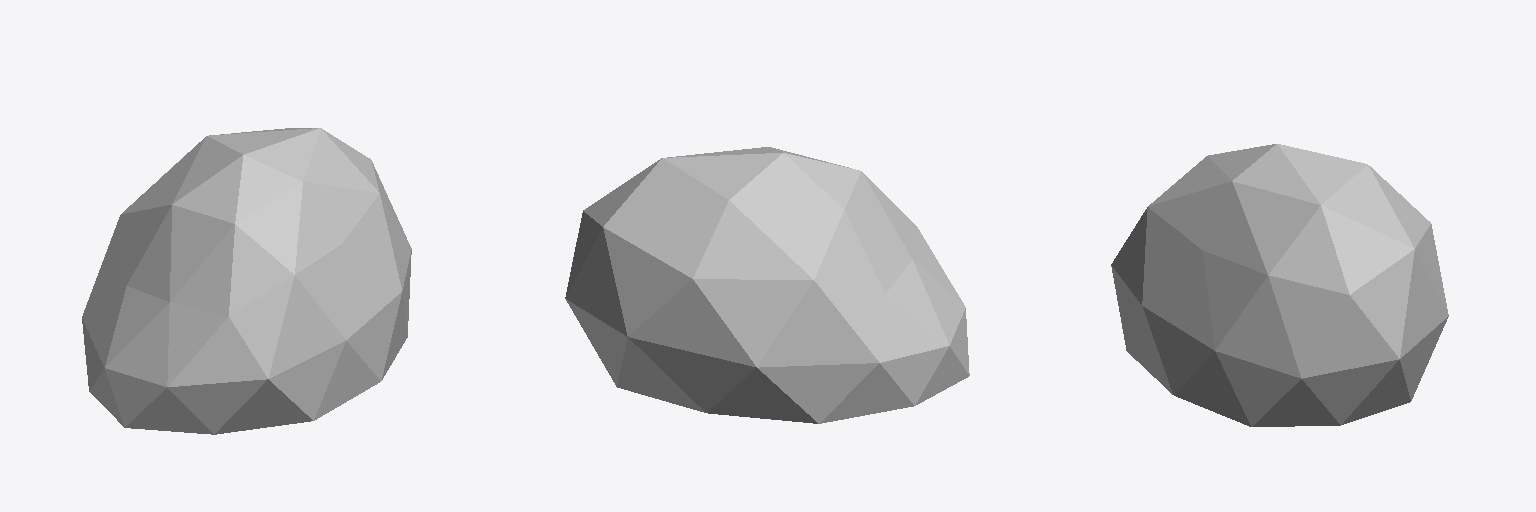
File: Rock3.obj
3 views of the same model, side by side, from view 1: azimuth 30°, elevation 25°; view 2: azimuth 150°, elevation 25°; view 3: azimuth 270°, elevation 25° (orthographic).
Visible parts, largest first — view 1: Rock3_Icosphere.006; view 2: Rock3_Icosphere.006; view 3: Rock3_Icosphere.006.
Boxes of the visible parts, x1,y1,x2,y2 form: Rock3_Icosphere.006: [82, 128, 411, 434]; Rock3_Icosphere.006: [565, 147, 969, 423]; Rock3_Icosphere.006: [1111, 144, 1448, 426].
Bounding box in the file's own units: 0.7141 × 0.4326 × 0.6271.